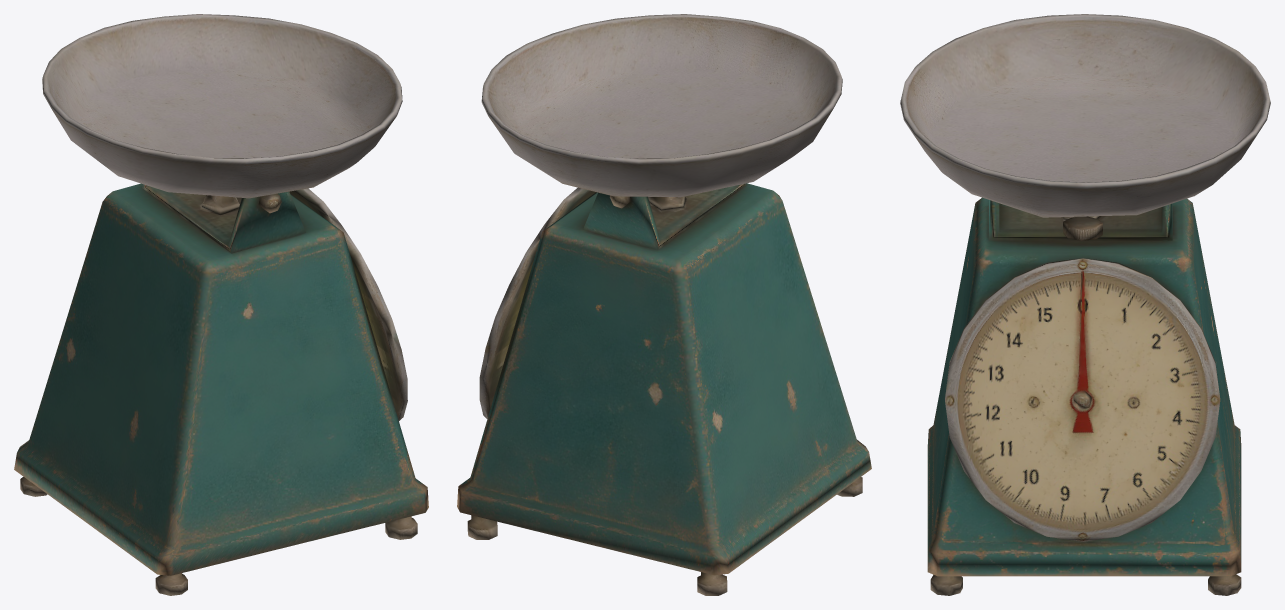
The model's file is counter-scale.glb.
The picture shows the model from 3 angles, left to right: view 1: azimuth 30°, elevation 25°; view 2: azimuth 150°, elevation 25°; view 3: azimuth 270°, elevation 25°; orthographic projection. The views are drawn at different scales.
Parts seen in each view (by area): view 1: tripo_node_be500c34-d826-480c-b37e-a249ae760436; view 2: tripo_node_be500c34-d826-480c-b37e-a249ae760436; view 3: tripo_node_be500c34-d826-480c-b37e-a249ae760436.
Boxes of the visible parts, <box> form: tripo_node_be500c34-d826-480c-b37e-a249ae760436: <box>14,14,428,595</box>; tripo_node_be500c34-d826-480c-b37e-a249ae760436: <box>457,14,871,595</box>; tripo_node_be500c34-d826-480c-b37e-a249ae760436: <box>900,14,1270,595</box>.
Bounding box in the file's own units: 0.7598 × 0.998 × 0.7598.
Materials: 1 (1 with a texture image).
